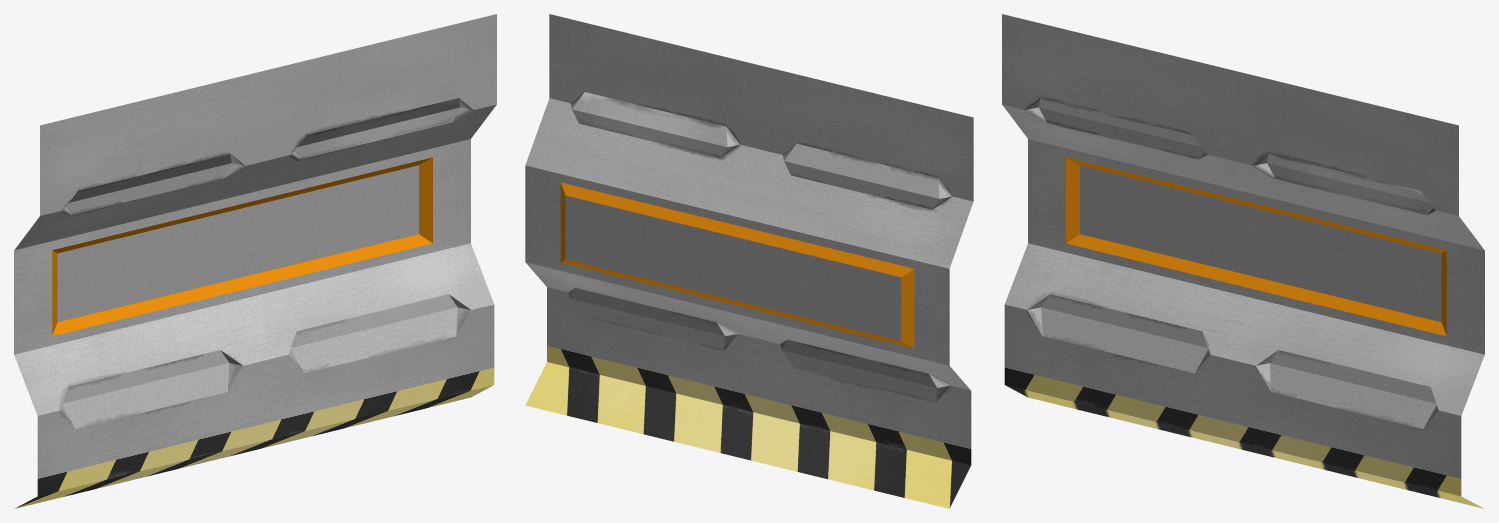
The model's file is Wall_Middle.fbx.
3 renders of one model, left to right at view 1: azimuth 30°, elevation 25°; view 2: azimuth 150°, elevation 25°; view 3: azimuth 330°, elevation 25°, orthographic. The views are drawn at different scales.
Parts seen in each view (by area): view 1: Wall_Middle; view 2: Wall_Middle; view 3: Wall_Middle.
Part boxes in pixels (x1,y1,x2,y2): Wall_Middle: (14,14,496,508); Wall_Middle: (525,14,973,508); Wall_Middle: (1002,14,1484,508).
Bounding box in the file's own units: 2480 × 2088 × 284.
1 material, 1 textured.
